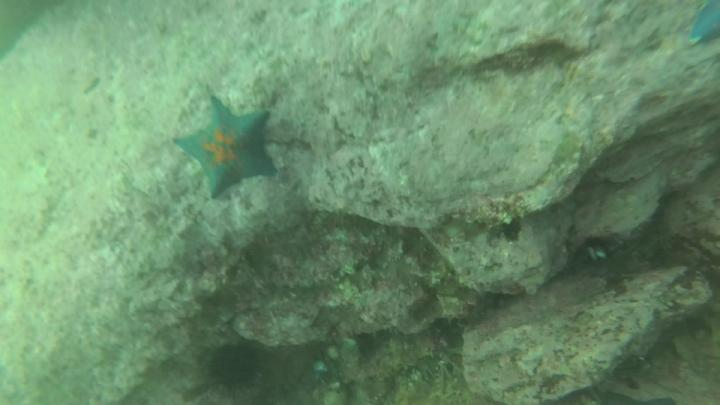echinus: (205, 340, 266, 394)
starfish: (171, 97, 280, 200), (686, 1, 720, 54)
